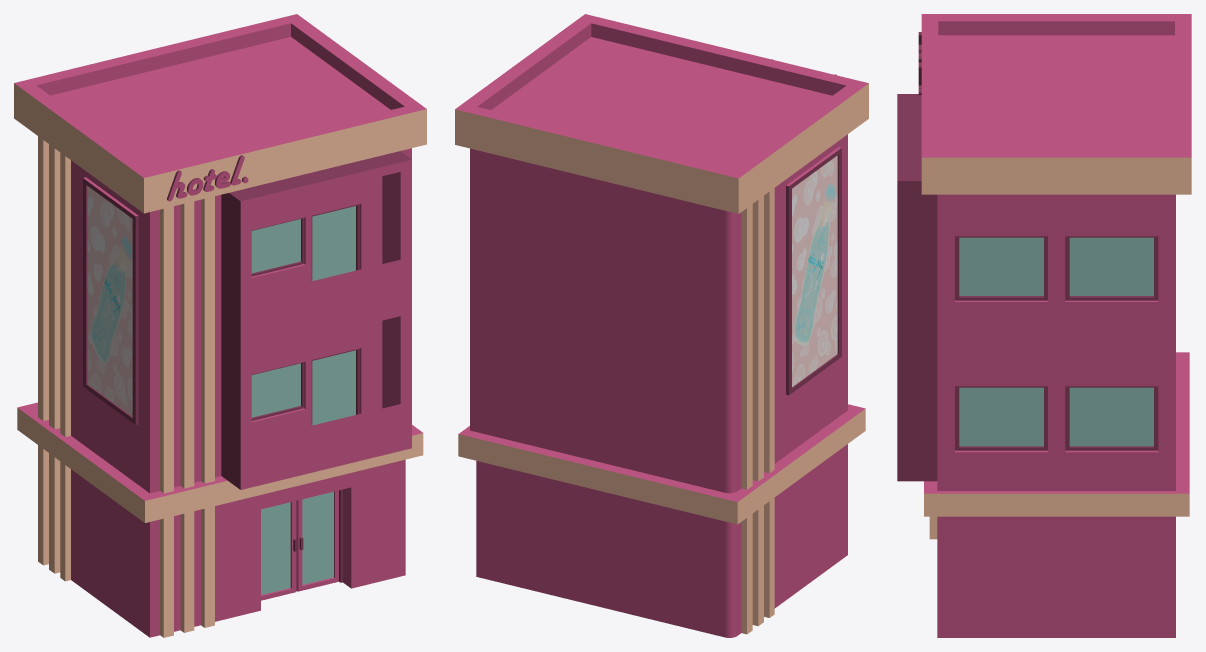
Rendered from hotel.obj.
3 renders of one model, left to right at view 1: azimuth 30°, elevation 25°; view 2: azimuth 150°, elevation 25°; view 3: azimuth 270°, elevation 25°, orthographic. The views are drawn at different scales.
Parts seen in each view (by area): view 1: Object_152, Object_154, Object_155, Object_153, Object_151; view 2: Object_152, Object_154, Object_151, Object_153; view 3: Object_152, Object_155, Object_153, Object_154.
Part boxes in pixels (<box>): Object_152: <box>14,14,426,637</box>; Object_154: <box>14,83,426,637</box>; Object_155: <box>251,206,355,594</box>; Object_153: <box>83,151,411,591</box>; Object_151: <box>87,186,132,416</box>; Object_152: <box>455,14,868,637</box>; Object_154: <box>455,83,868,634</box>; Object_151: <box>792,155,837,386</box>; Object_153: <box>772,59,841,395</box>; Object_152: <box>921,14,1191,637</box>; Object_155: <box>959,237,1153,446</box>; Object_153: <box>897,32,1158,481</box>; Object_154: <box>921,157,1191,539</box>.
Size of the model in its own units: 6.32 by 10 by 5.48.
Materials: 5 (1 with a texture image).
